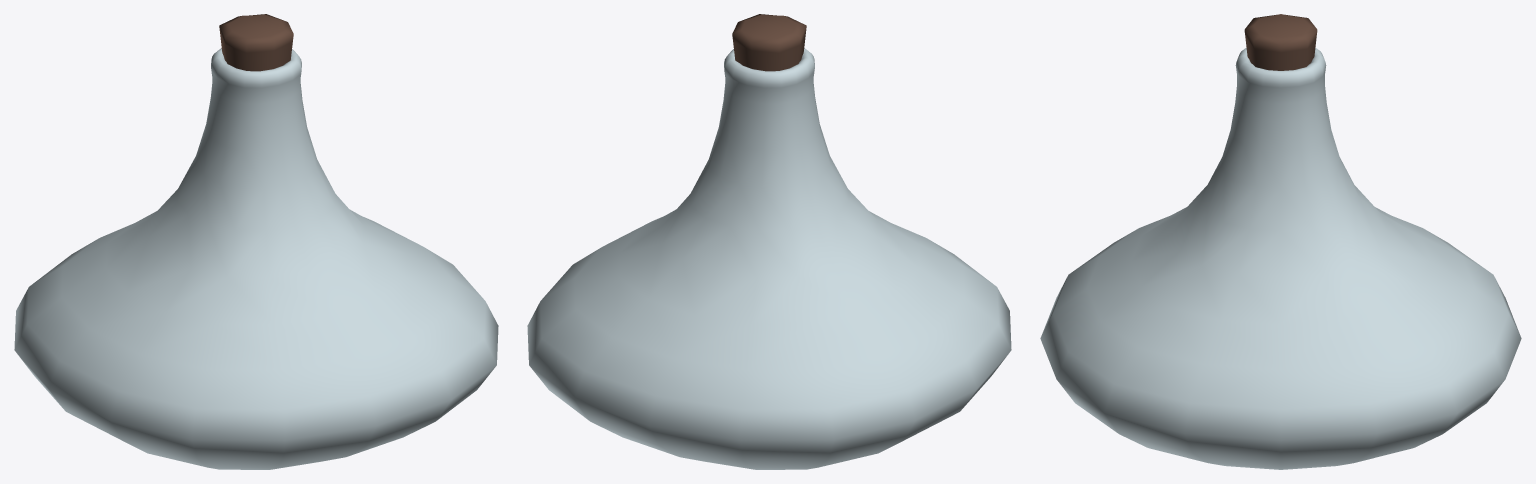
File: rpg_potion8_filled.glb
3 renders of one model, left to right at view 1: azimuth 30°, elevation 25°; view 2: azimuth 150°, elevation 25°; view 3: azimuth 270°, elevation 25°, orthographic.
Parts seen in each view (by area): view 1: Potion8_Filled; view 2: Potion8_Filled; view 3: Potion8_Filled.
Boxes of the visible parts, bbox=[...] form: Potion8_Filled: bbox=[14, 14, 498, 469]; Potion8_Filled: bbox=[527, 14, 1011, 469]; Potion8_Filled: bbox=[1040, 14, 1521, 469].
Size of the model in its own units: 0.7035 by 0.6821 by 0.7035.
